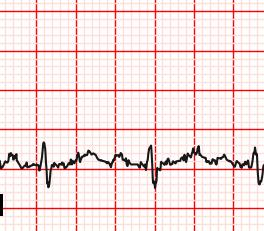Poor R Progression: (31, 135, 53, 168), (141, 140, 158, 168), (248, 143, 262, 171)
ST Depression: (136, 159, 170, 196), (29, 162, 60, 189)
